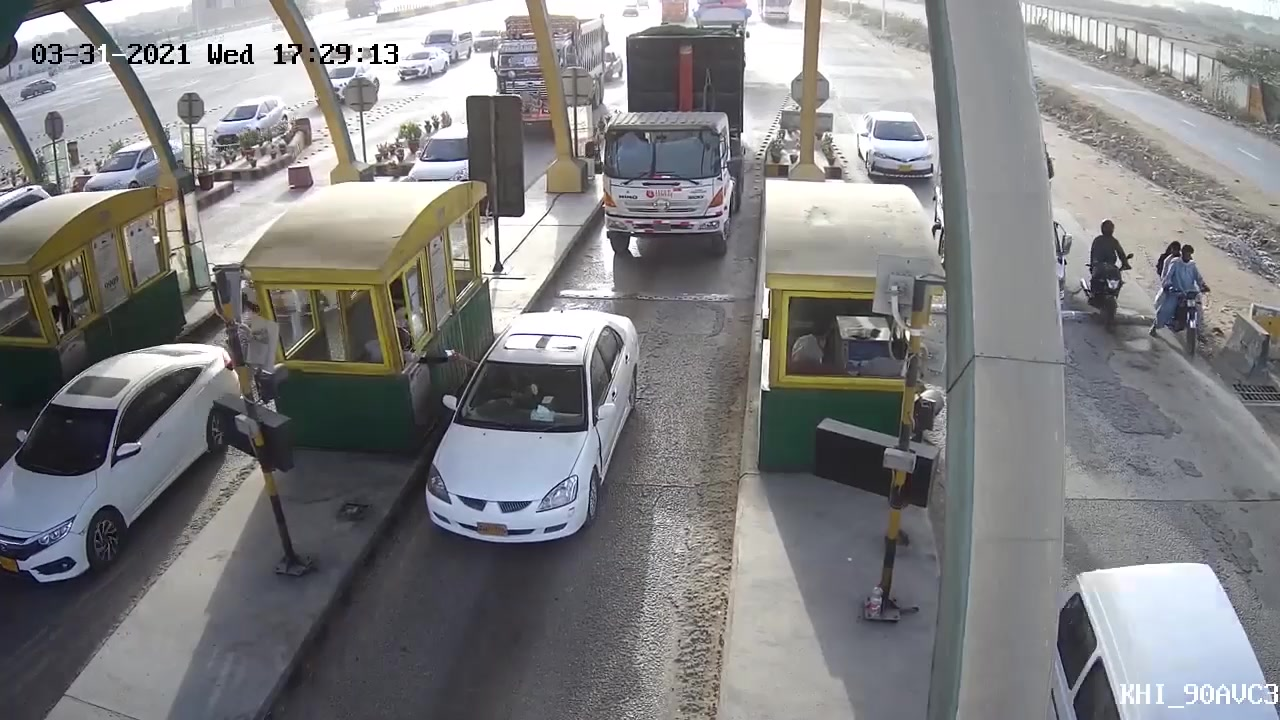F1: (404, 301, 647, 557)
